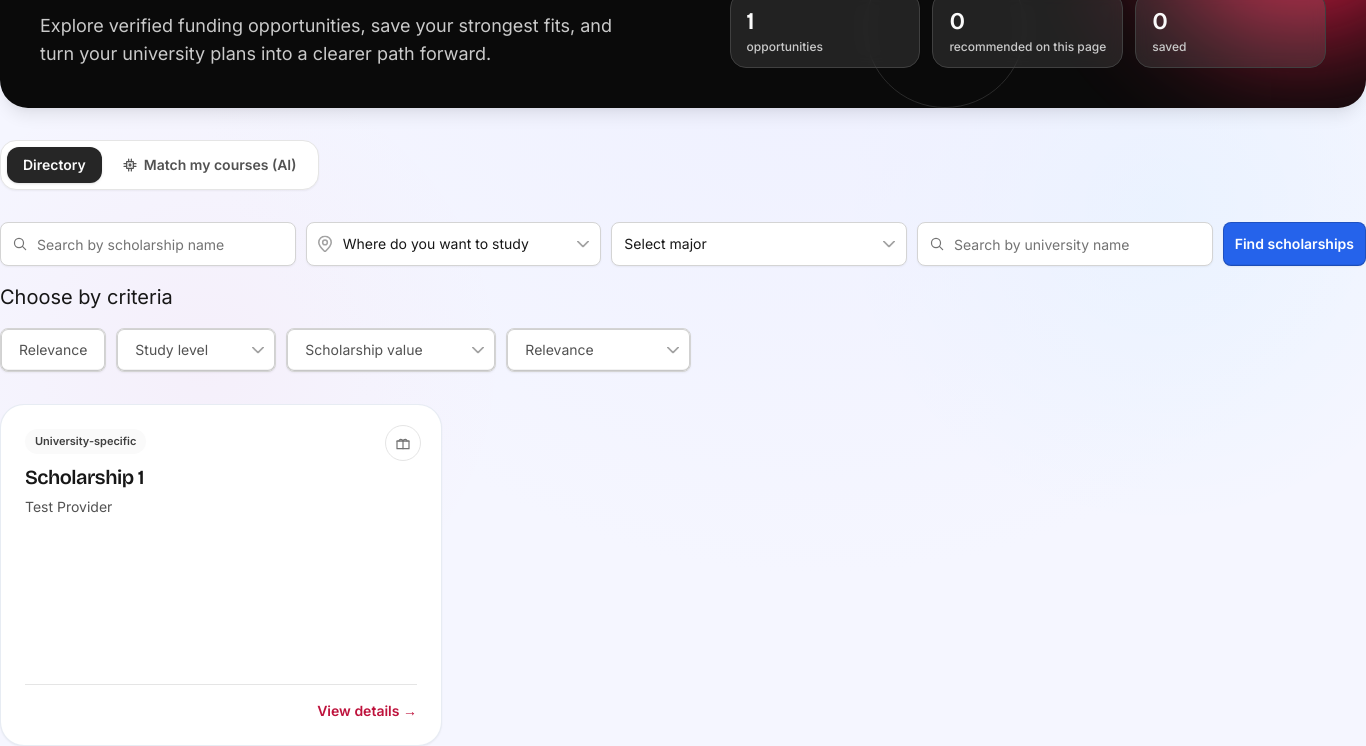
Test: ScholarshipDirectoryClient save picker coordination › replaces the scholarship detail dialog before opening the university picker
This screenshot has width=1366, height=746.
(page scrolled)
Click the element with test id "scholarship-card" at (221, 575), box left=0, top=404, right=442, bottom=745
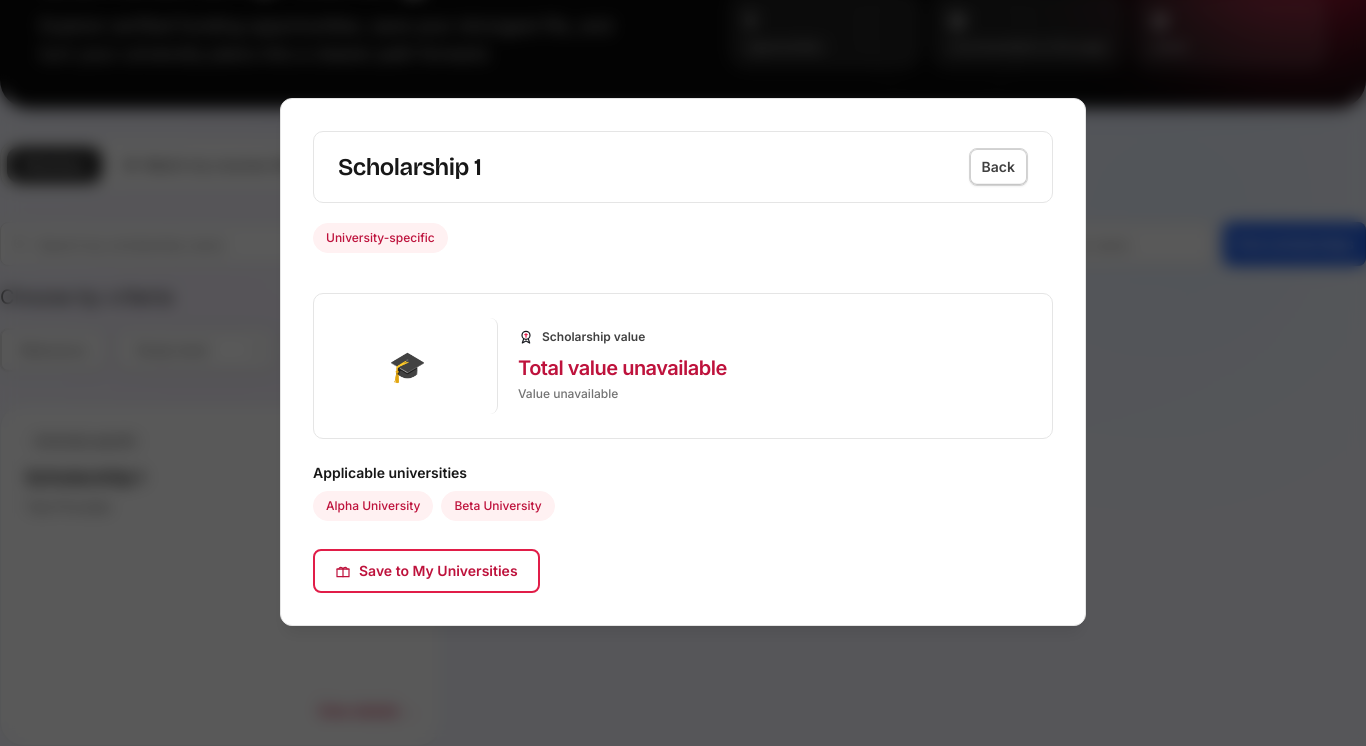
Expected: the button "Back" is shown, left=969, top=148, right=1028, bottom=186
Click the button "Save to My Universities" at (426, 571), box left=313, top=549, right=540, bottom=593
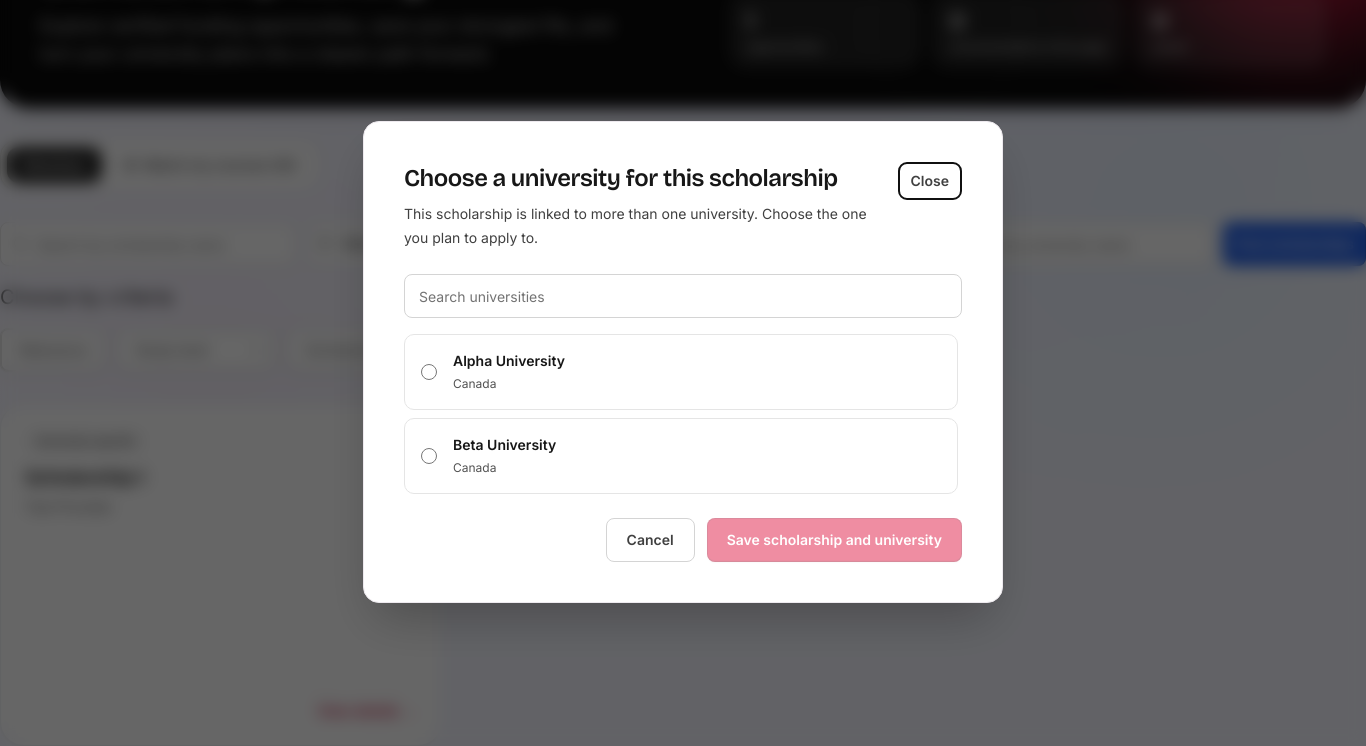
Expected: the form with test id "scholarship-university-picker" is shown, left=404, top=162, right=962, bottom=562
Expected: the button "Back" is gone
Press Escape
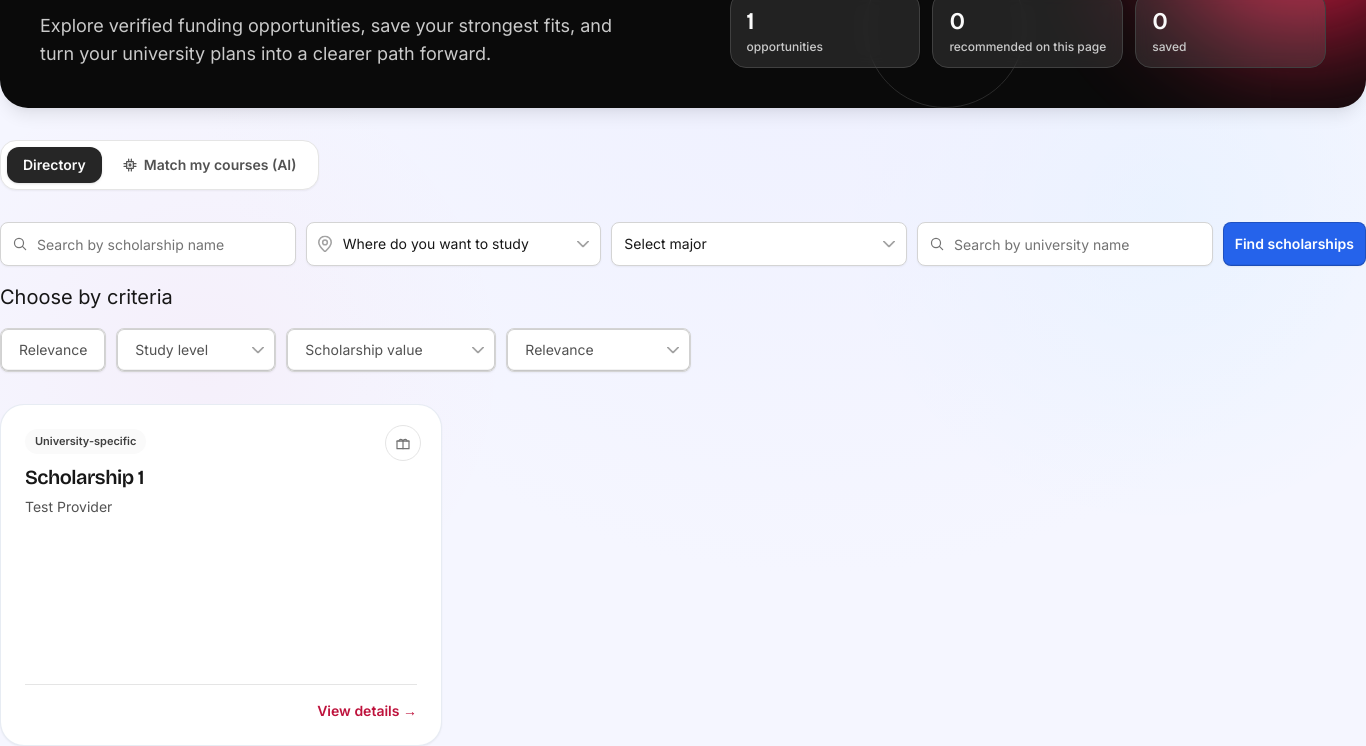
Expected: the button "Back" is not shown
Expected: the form with test id "scholarship-university-picker" is gone
